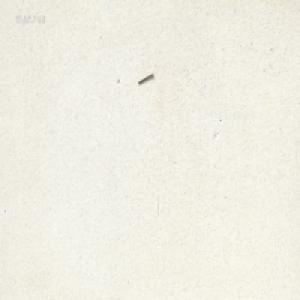Bolt: (137, 71, 153, 84)
